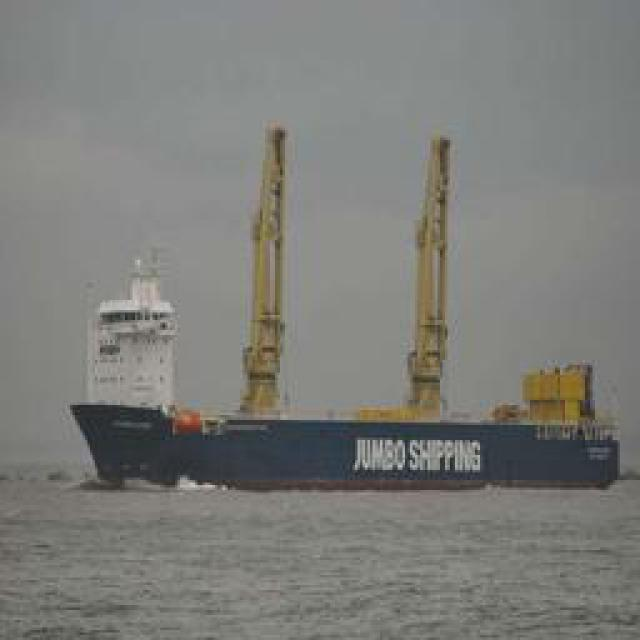Ship: (72, 246, 625, 500)
